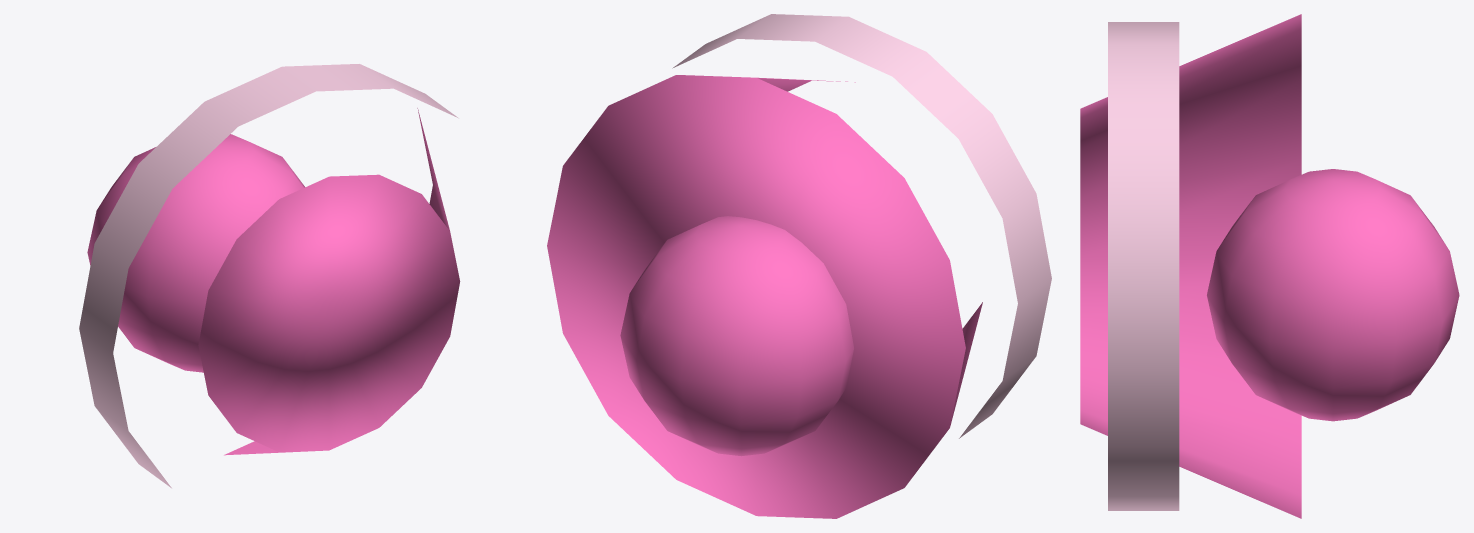
The model's file is snake_pink_tail.glb.
3 views of the same model, side by side, from view 1: azimuth 30°, elevation 25°; view 2: azimuth 150°, elevation 25°; view 3: azimuth 270°, elevation 25° (orthographic). The views are drawn at different scales.
Size of the model in its own units: 0.64 by 0.64 by 0.48.
